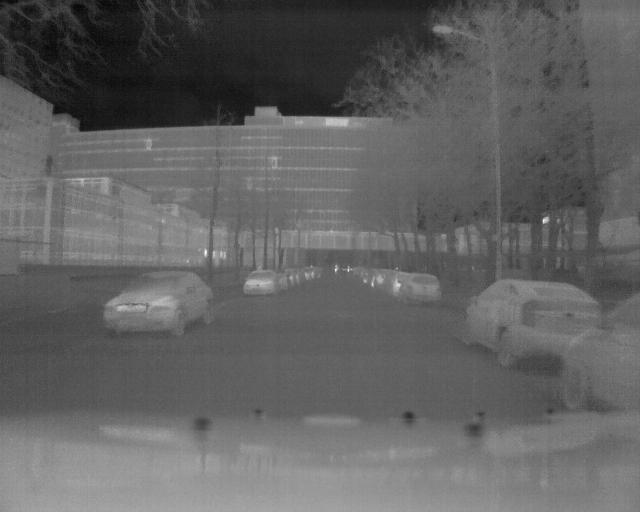car: (458, 276, 610, 373), (557, 284, 640, 405), (103, 269, 218, 340), (394, 272, 440, 302), (241, 270, 281, 296)
